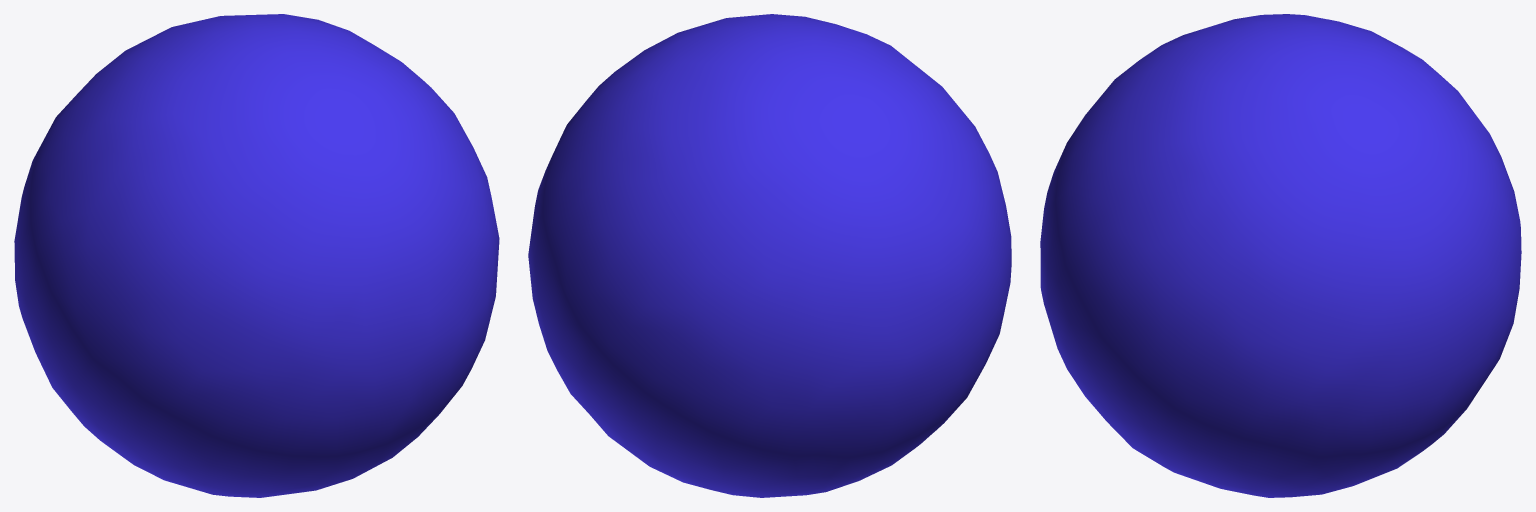
Rendered from golfball.fbx.
3 renders of one model, left to right at view 1: azimuth 30°, elevation 25°; view 2: azimuth 150°, elevation 25°; view 3: azimuth 270°, elevation 25°, orthographic.
Parts seen in each view (by area): view 1: Golf-Ball-Low-Poly-Blue-Small; view 2: Golf-Ball-Low-Poly-Blue-Small; view 3: Golf-Ball-Low-Poly-Blue-Small.
Part boxes in pixels (bbox=[...]): Golf-Ball-Low-Poly-Blue-Small: bbox=[14, 14, 499, 497]; Golf-Ball-Low-Poly-Blue-Small: bbox=[528, 14, 1011, 497]; Golf-Ball-Low-Poly-Blue-Small: bbox=[1040, 14, 1521, 497].
Size of the model in its own units: 4.85 by 4.86 by 4.82.
